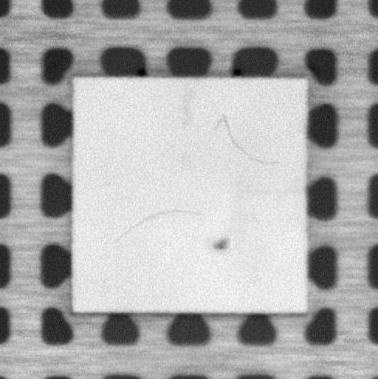DIE_CRACK: (113, 206, 202, 247), (217, 114, 280, 164)
